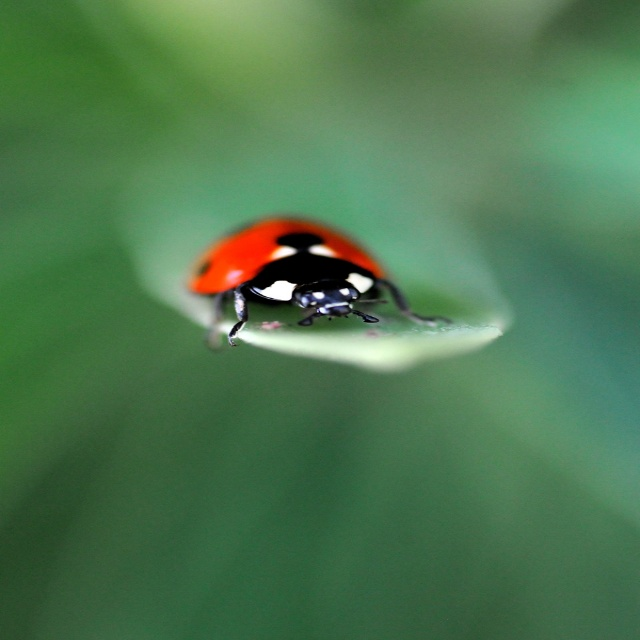Ladybug: (189, 214, 451, 345)
